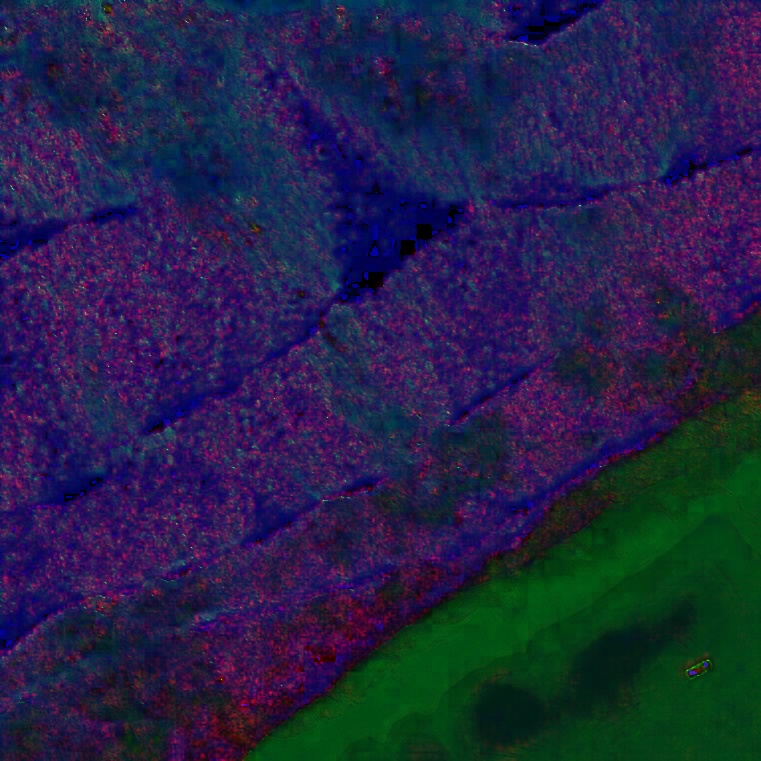rip_current: (199, 157, 504, 505)
